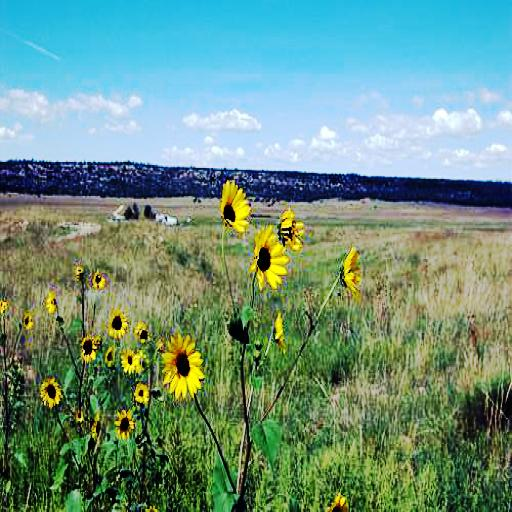sunflower: (162, 336, 203, 396), (252, 227, 285, 290), (220, 182, 249, 233), (345, 247, 365, 291), (284, 212, 304, 252), (41, 380, 60, 408), (116, 412, 134, 441), (109, 310, 127, 338), (120, 347, 139, 370), (80, 340, 96, 362)
